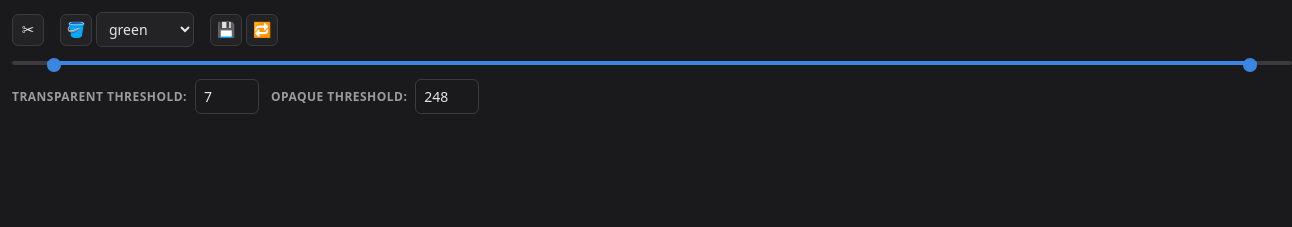
Test: AlphaControls — ✂ › makes it again when the thresholds changed (the banner shows, then clears)
Click the button named "Make the transparent video (ProRes 4444)": coordinates (28, 30) [12,14,44,46]
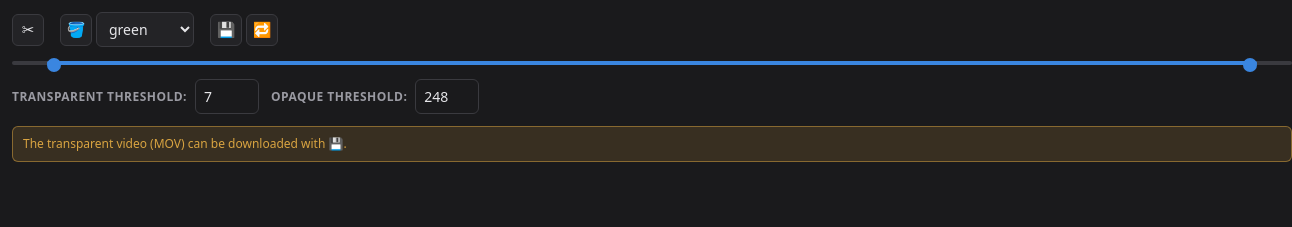
Expected: the text "The transparent video (MOV) can be downloaded with 💾." is shown, [12,126,1291,162]
Replace the text in the number field labelled "Transparent threshold:" with "20": coordinates (227, 96) [195,79,259,114]
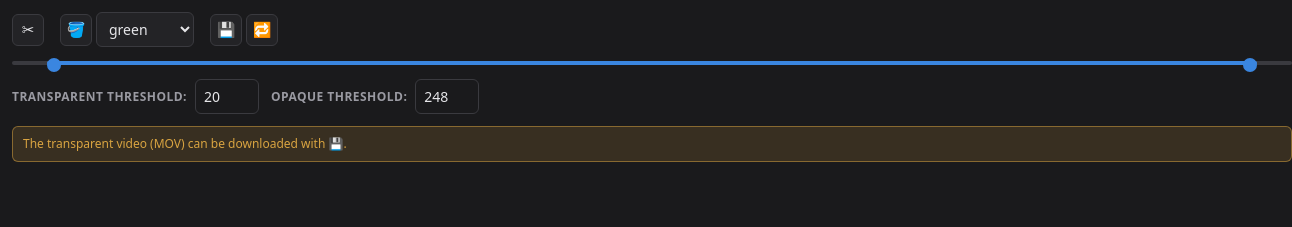
Leave the number field labelled "Transparent threshold:", box [195,79,259,114]
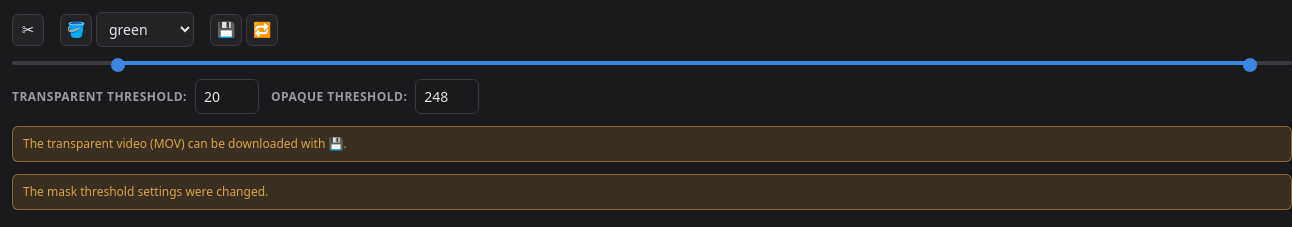
Expected: the text "The mask threshold settings were changed." is shown, [12,174,1291,210]
Click the button named "Make the transparent video (ProRes 4444)": coordinates (28, 30) [12,14,44,46]
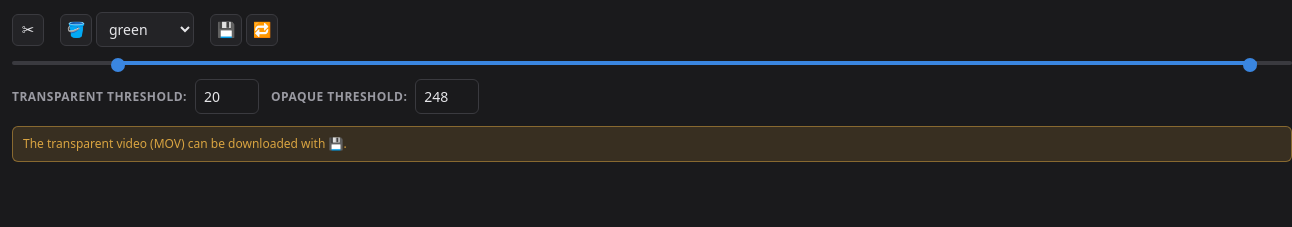
Expected: the text "The mask threshold settings were changed." is gone
